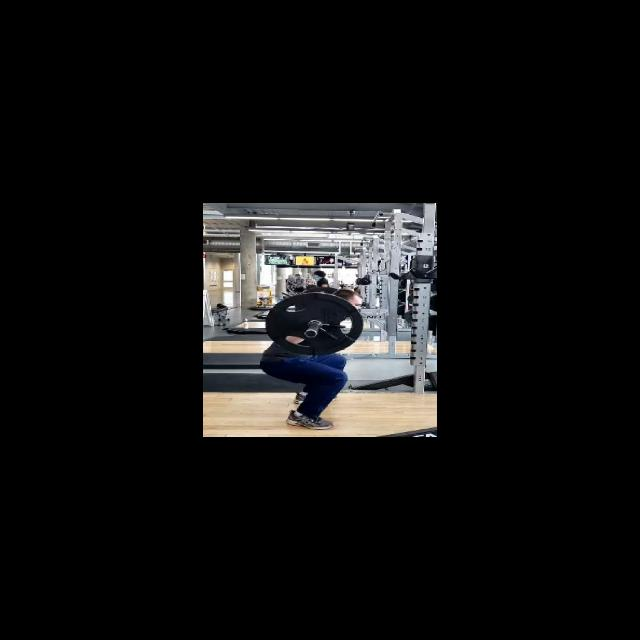barbell: (261, 290, 367, 356)
